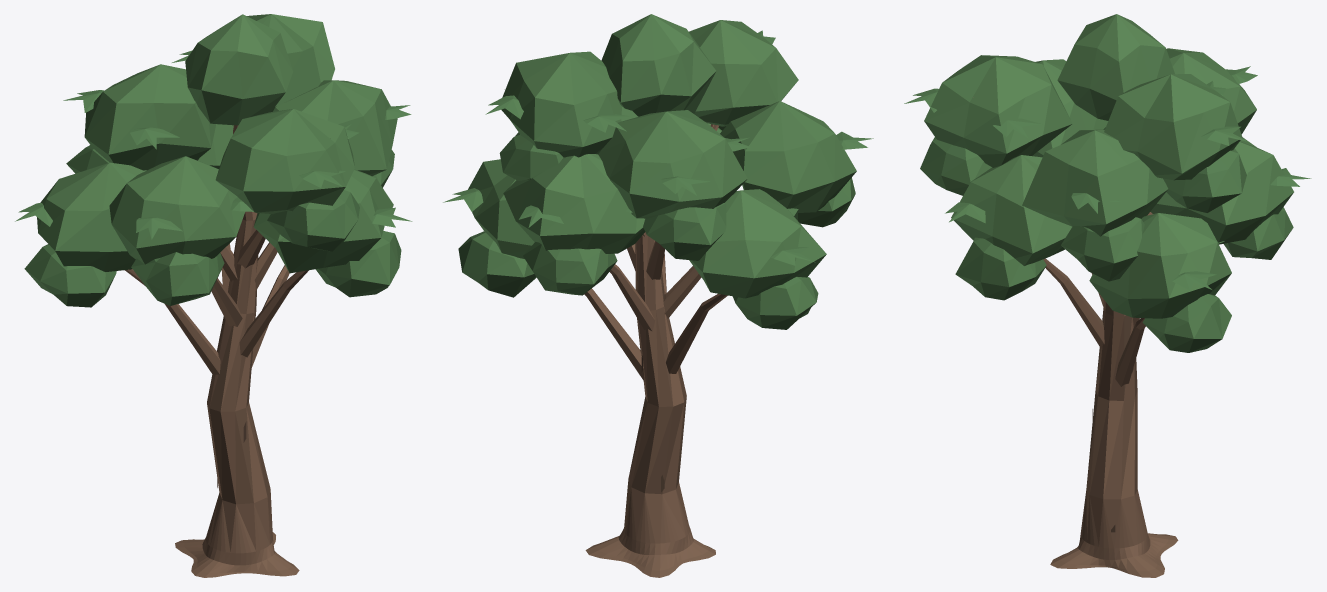
The model's file is maple_summer.glb.
3 views of the same model, side by side, from view 1: azimuth 30°, elevation 25°; view 2: azimuth 150°, elevation 25°; view 3: azimuth 270°, elevation 25° (orthographic).
Parts seen in each view (by area): view 1: leaves, branches; view 2: leaves, branches; view 3: leaves, branches.
Part boxes in pixels (x1,y1,x2,y2): leaves: [15, 14, 412, 307]; branches: [125, 125, 308, 577]; leaves: [443, 14, 873, 329]; branches: [584, 124, 727, 577]; leaves: [904, 14, 1311, 352]; branches: [973, 97, 1178, 577].
Bounding box in the file's own units: 3.3 × 4.7 × 3.23.
